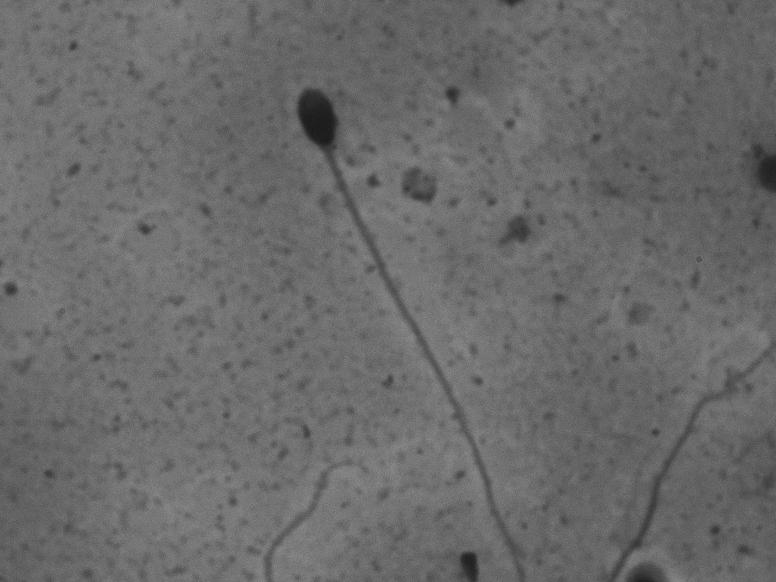Normal: (275, 74, 538, 574)
